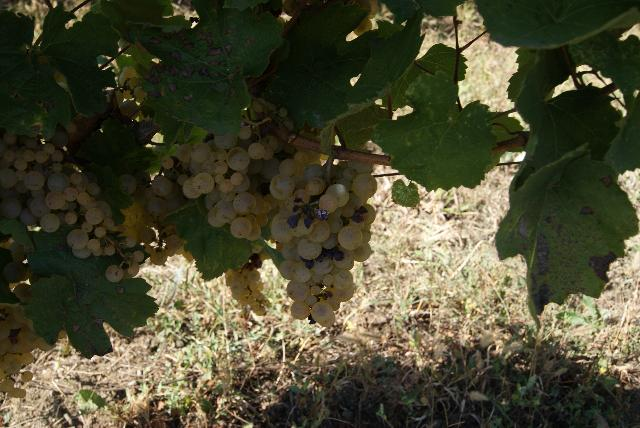grapes: (270, 152, 378, 328), (176, 134, 280, 241)
